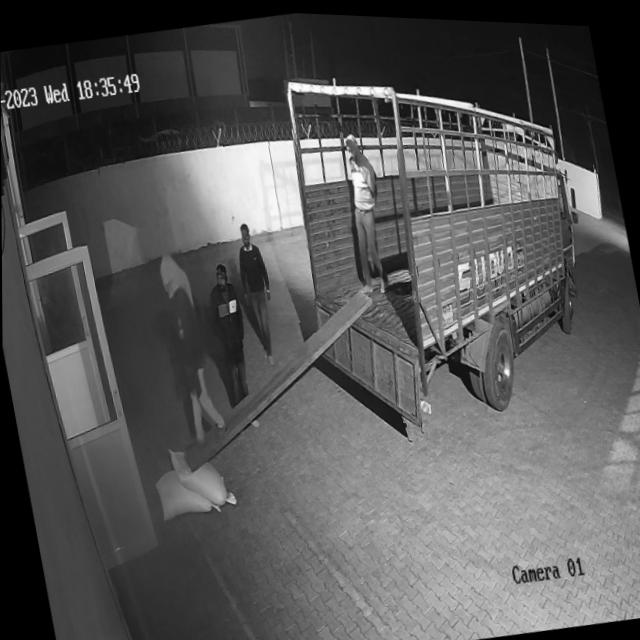sack: (166, 437, 236, 513), (151, 459, 219, 520)
